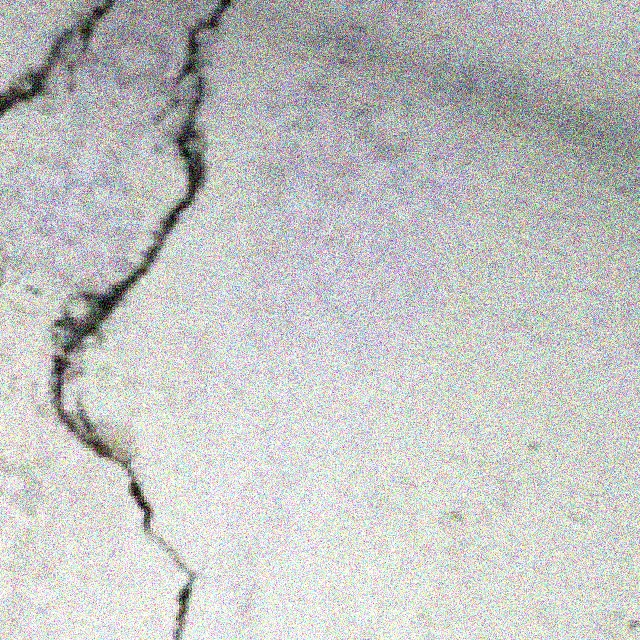SurfaceCrack: (42, 8, 252, 640)
